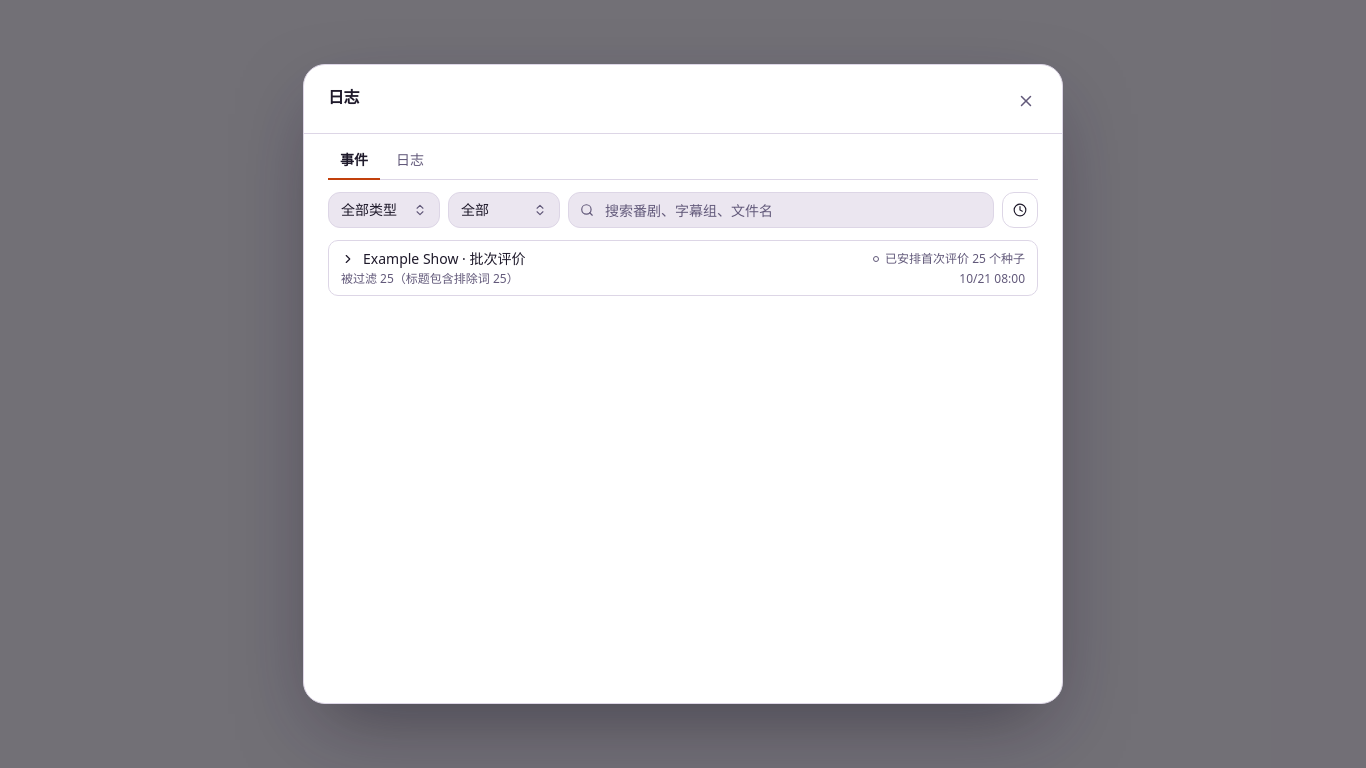
it: LogDialog › a release batch row expands to its first details and opens the full list
The image size is (1366, 768).
Click the button that starts with "Example Show · 批次评价". click: (444, 258)
box: [329, 241, 1037, 295]
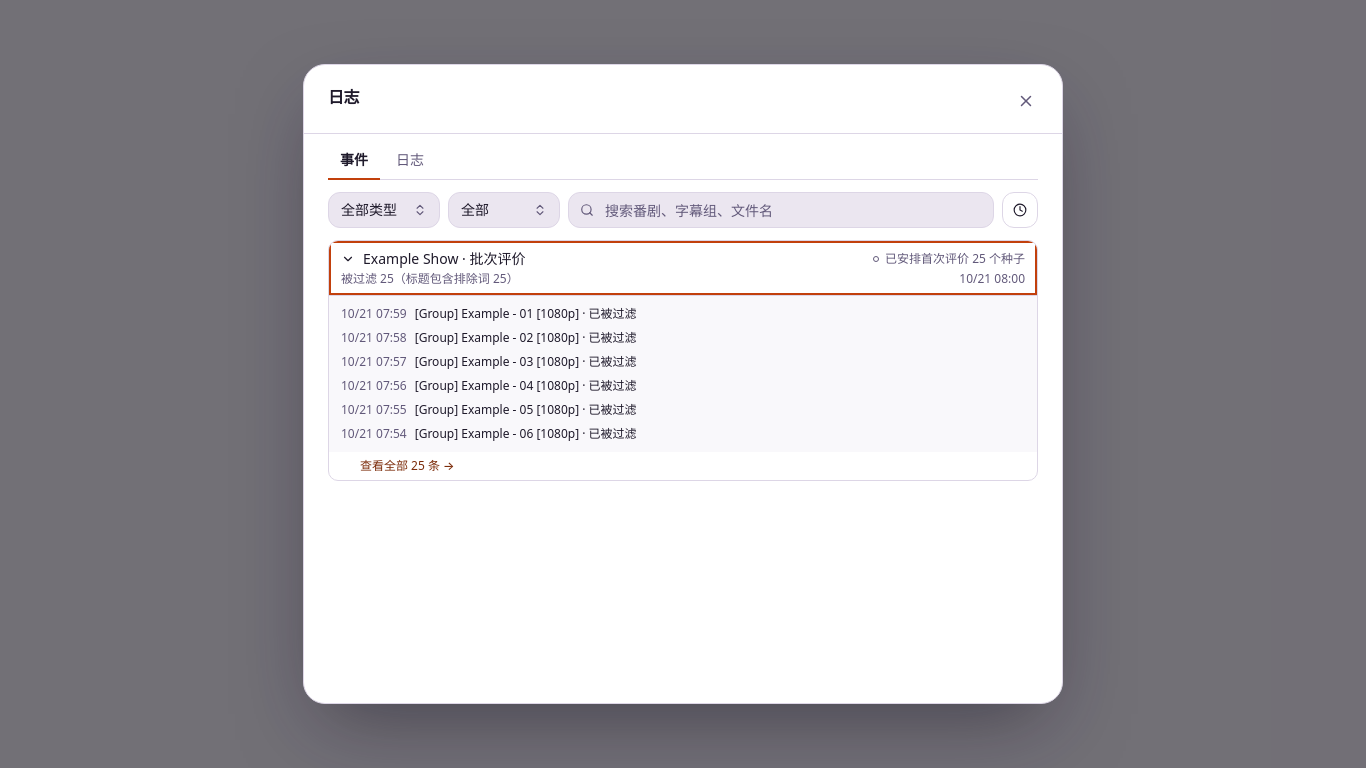
expect the text "Example - 07 [1080p]" is not shown: met
expect the text "[Group] Example - 01 [1080p] · 已被过滤" is shown: met, box [415, 306, 637, 322]
Click the button "查看全部 25 条 →". click: (407, 466)
box: [359, 452, 456, 480]
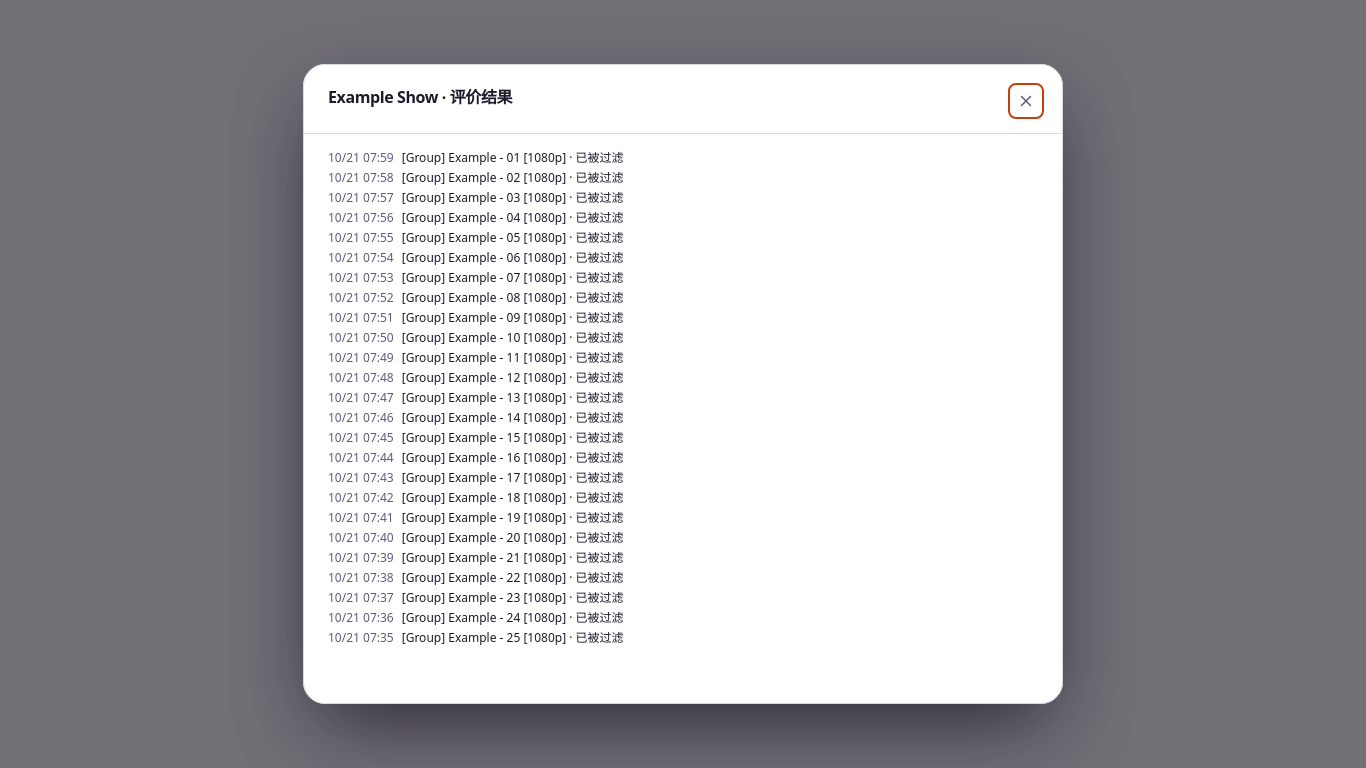
expect the heading "Example Show · 评价结果" is shown: met, box [328, 86, 512, 108]
expect the text "[Group] Example - 07 [1080p] · 已被过滤" is shown: met, box [402, 270, 624, 286]
expect the text "[Group] Example - 21 [1080p] · 已被过滤" is shown: met, box [402, 550, 624, 566]
